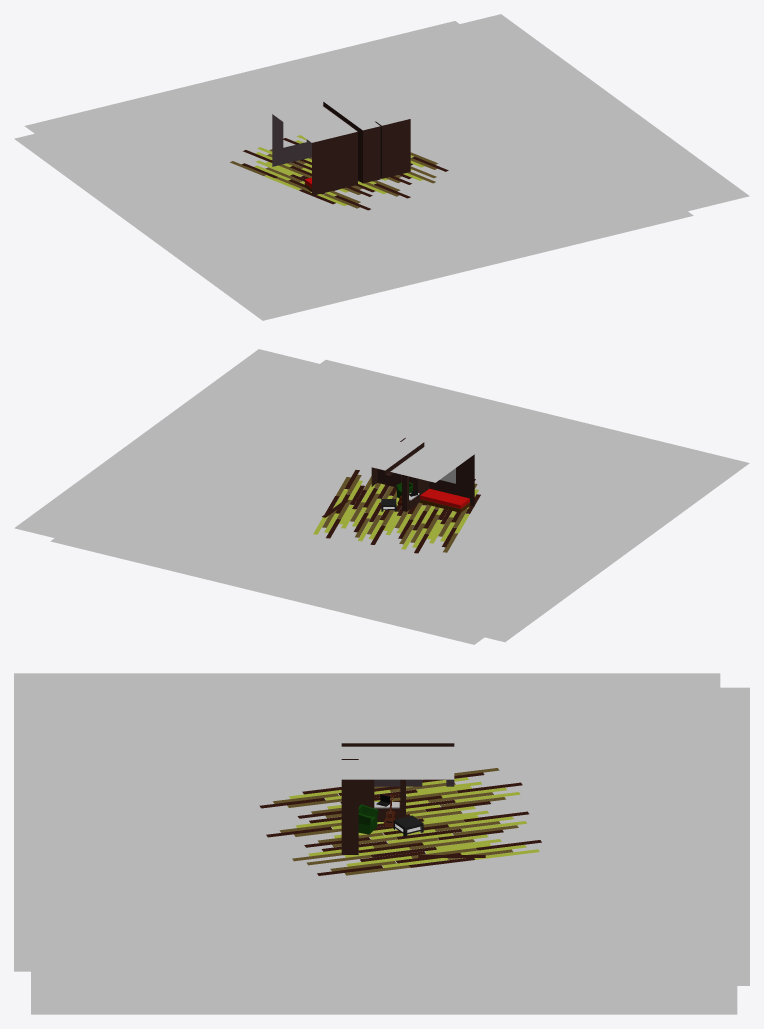
The model's file is gao-s.obj.
3 renders of one model, top to bottom at view 1: azimuth 30°, elevation 25°; view 2: azimuth 150°, elevation 25°; view 3: azimuth 270°, elevation 25°, orthographic. The views are drawn at different scales.
Parts seen in each view (by area): view 1: Plane.002, Plane.022, Plane.037, Cube, Cube.005; view 2: Plane.022, Plane.002, Plane.037, Cube.005, Cube, Cube.004; view 3: Plane.022, Plane.002, Plane.037, Cube.005, Cube.
Boxes of the visible parts, box(x1,y1,x2,y2) form: Plane.002: box(14, 33, 693, 320); Plane.022: box(24, 21, 703, 307); Plane.037: box(71, 14, 749, 301); Cube: box(272, 102, 410, 195); Cube.005: box(273, 90, 409, 142); Plane.022: box(50, 362, 716, 644); Plane.002: box(81, 359, 749, 642); Plane.037: box(14, 349, 607, 558); Cube.005: box(339, 430, 473, 482); Cube: box(371, 438, 474, 511); Cube.004: box(420, 488, 469, 508); Plane.022: box(43, 687, 749, 985); Plane.002: box(14, 673, 720, 971); Plane.037: box(31, 716, 737, 1014); Cube.005: box(341, 711, 454, 779); Cube: box(341, 743, 454, 854).
Size of the model in its own units: 23.99 by 2.7 by 21.86.
